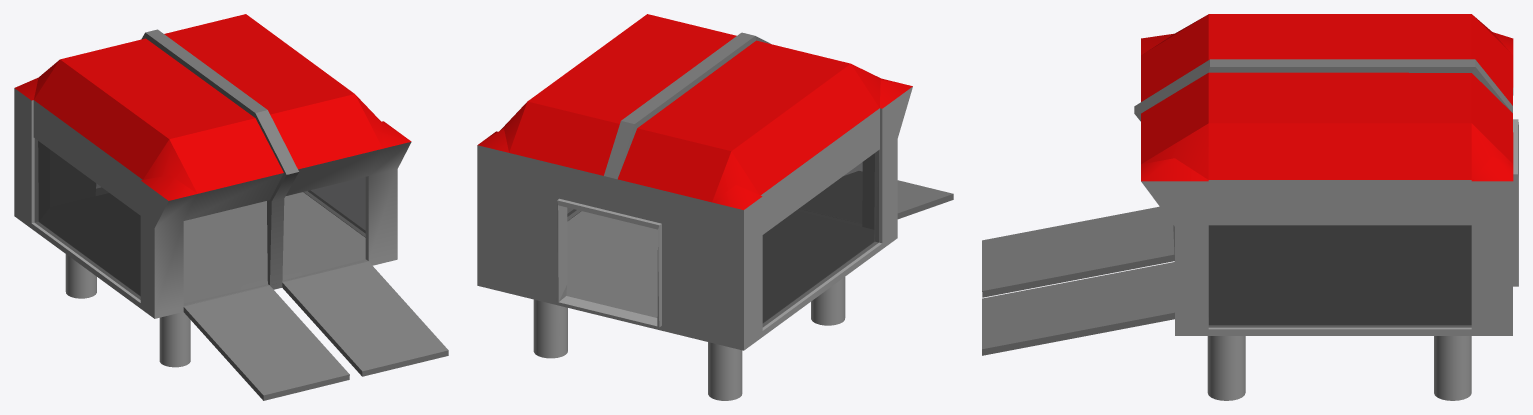
The model's file is Garage.fbx.
3 renders of one model, left to right at view 1: azimuth 30°, elevation 25°; view 2: azimuth 150°, elevation 25°; view 3: azimuth 270°, elevation 25°, orthographic. The views are drawn at different scales.
Visible parts, largest first — view 1: Roof, MainBody, Garage:Ramps, Floor, Garage:Glass, Rib, Garage:Foundation; view 2: Roof, MainBody, Floor, Garage:Glass, Garage:Foundation, Rib, Garage:Ramps; view 3: Roof, MainBody, Garage:Glass, Floor, Garage:Ramps, Rib, Garage:Foundation.
Boxes of the visible parts, x1=… form: Roof: x1=15, y1=14, x2=411, y2=200; MainBody: x1=14, y1=88, x2=411, y2=318; Garage:Ramps: x1=183, y1=261, x2=448, y2=400; Floor: x1=39, y1=192, x2=368, y2=306; Garage:Glass: x1=34, y1=139, x2=365, y2=299; Rib: x1=141, y1=29, x2=298, y2=289; Garage:Foundation: x1=65, y1=254, x2=190, y2=367; Roof: x1=477, y1=14, x2=912, y2=209; MainBody: x1=477, y1=86, x2=912, y2=350; Floor: x1=566, y1=209, x2=873, y2=322; Garage:Glass: x1=567, y1=150, x2=878, y2=326; Garage:Foundation: x1=533, y1=277, x2=845, y2=400; Rib: x1=604, y1=32, x2=771, y2=179; Garage:Ramps: x1=801, y1=171, x2=953, y2=222; Roof: x1=1141, y1=14, x2=1513, y2=181; MainBody: x1=1141, y1=88, x2=1518, y2=335; Garage:Glass: x1=1208, y1=225, x2=1471, y2=327; Floor: x1=1209, y1=225, x2=1471, y2=324; Garage:Ramps: x1=982, y1=206, x2=1174, y2=355; Rib: x1=1134, y1=59, x2=1512, y2=261; Garage:Foundation: x1=1207, y1=336, x2=1471, y2=400.
Bounding box in the file's own units: 1291 × 1192 × 2049.
